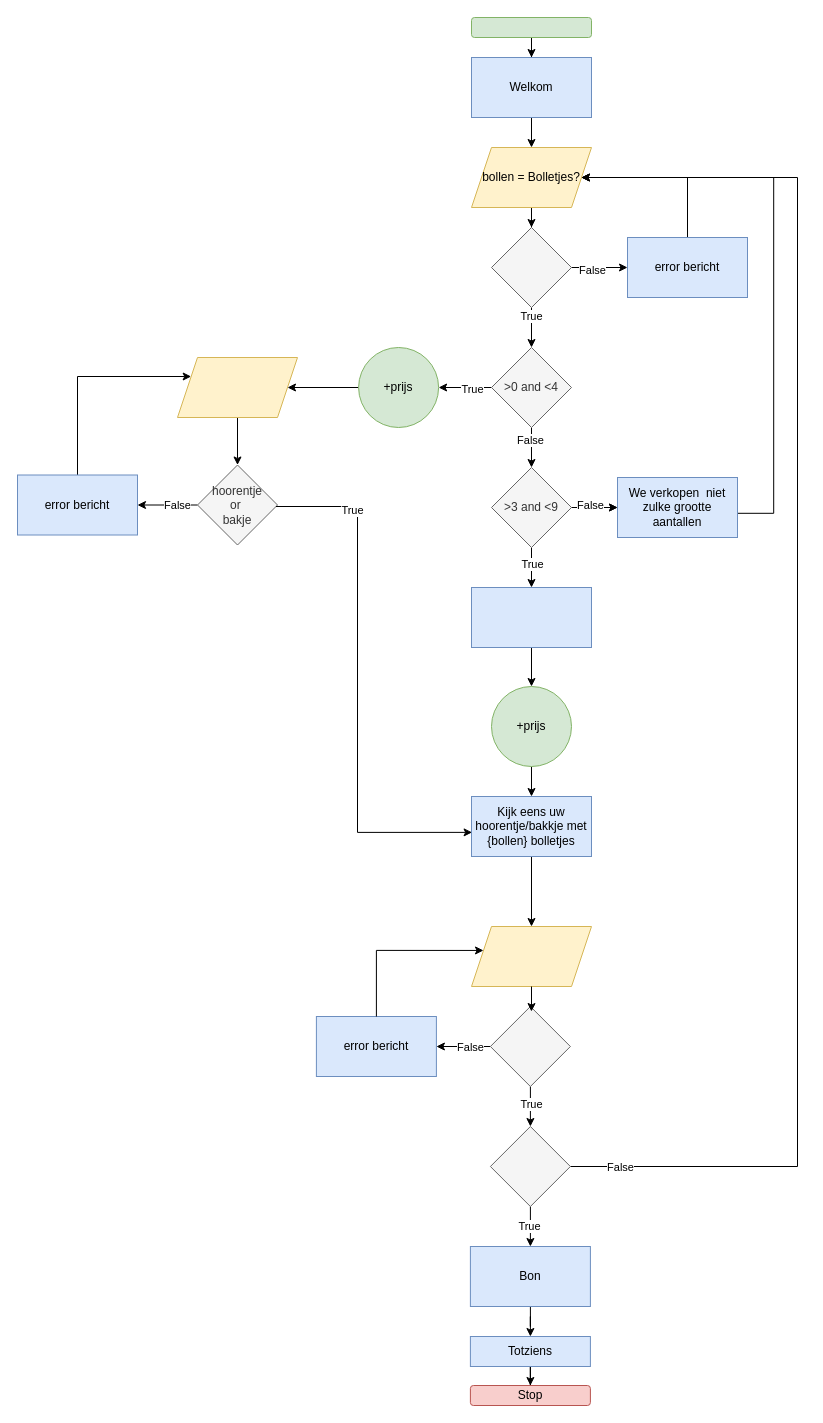
The diagram is 823 pixels wide and 1423 high, and some of its shapes have lost their labels. The centre of each missing label's shape, as x and y in pixels:
Hoorentje of bakkje: the point at 237,387
interger: the point at 531,267
Ja or nee: the point at 529,1046
nee: the point at 529,1166
nogeens = wilt u nog iets bestellen?: the point at 531,956
Start: the point at 531,27
u krijgt van mij een bakje: the point at 531,617
